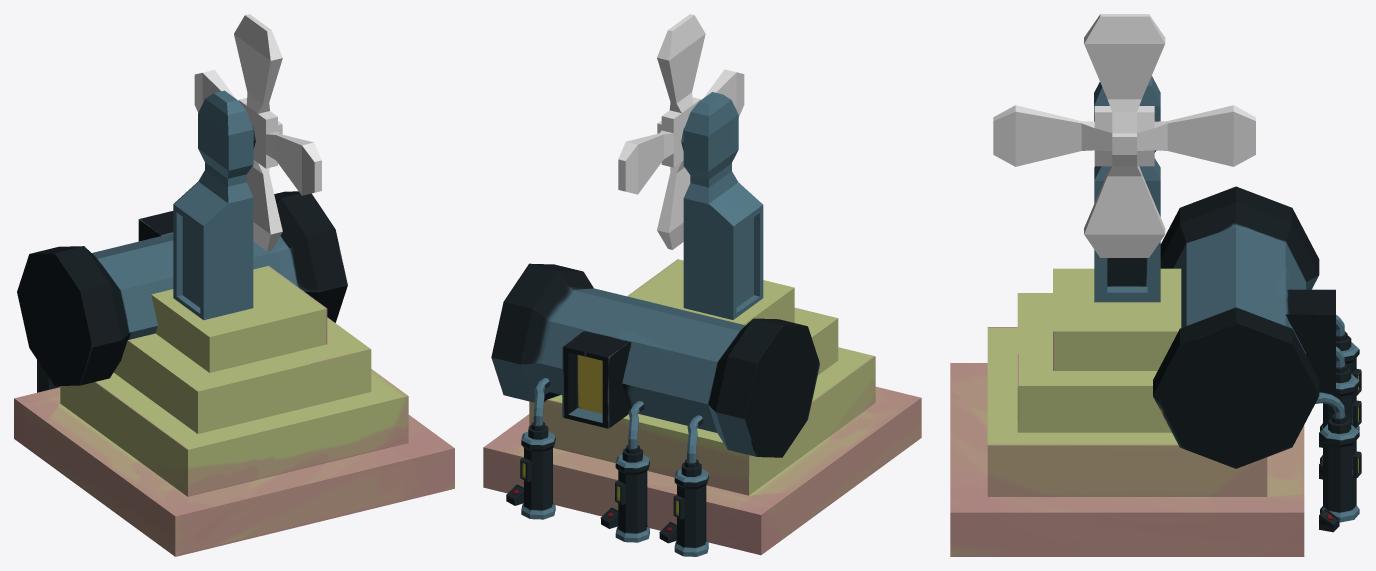
The model's file is generateur.fbx.
3 renders of one model, left to right at view 1: azimuth 30°, elevation 25°; view 2: azimuth 150°, elevation 25°; view 3: azimuth 270°, elevation 25°, orthographic. The views are drawn at different scales.
Visible parts, largest first — view 1: Cube.006, SILO.002, Cube.007, helice.001; view 2: Cube.006, SILO.002, Cube.007, helice.001, battery_ferme.011, battery_ferme.010, battery_ferme.009; view 3: Cube.006, SILO.002, helice.001, Cube.007, battery_ferme.009, battery_ferme.010, battery_ferme.011.
Boxes of the visible parts, x1,y1,x2,y2 form: Cube.006: [14, 265, 454, 556]; SILO.002: [17, 191, 347, 386]; Cube.007: [173, 90, 255, 320]; helice.001: [194, 14, 321, 251]; Cube.006: [483, 259, 921, 555]; SILO.002: [491, 263, 819, 457]; Cube.007: [681, 92, 763, 319]; helice.001: [618, 14, 744, 249]; battery_ferme.011: [659, 415, 708, 556]; battery_ferme.010: [600, 401, 649, 542]; battery_ferme.009: [506, 378, 555, 519]; Cube.006: [950, 268, 1304, 556]; SILO.002: [1153, 186, 1335, 468]; helice.001: [993, 14, 1255, 257]; Cube.007: [1094, 76, 1160, 302]; battery_ferme.009: [1315, 392, 1361, 532]; battery_ferme.010: [1319, 346, 1361, 479]; battery_ferme.011: [1319, 315, 1361, 447].
Bounding box in the file's own units: 1105 × 1649 × 1283.
